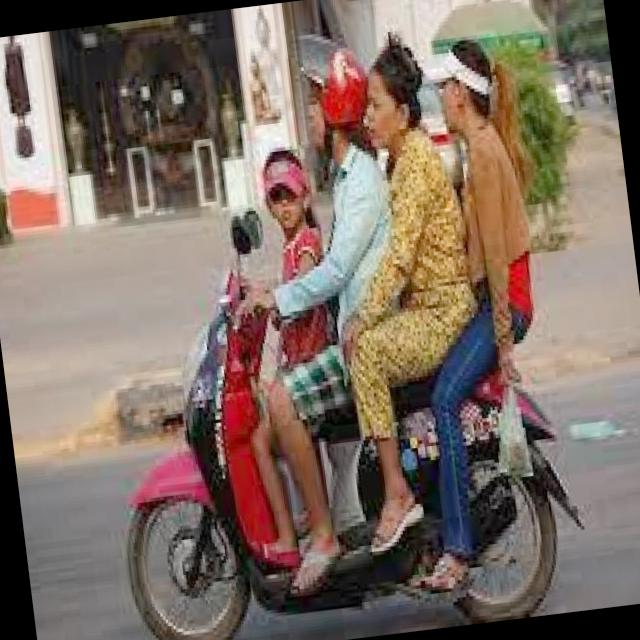motorcycle: (87, 228, 578, 640)
person: (336, 20, 500, 503), (413, 21, 569, 466), (292, 39, 422, 498), (230, 133, 356, 470)
rider_region: (62, 9, 585, 640)
